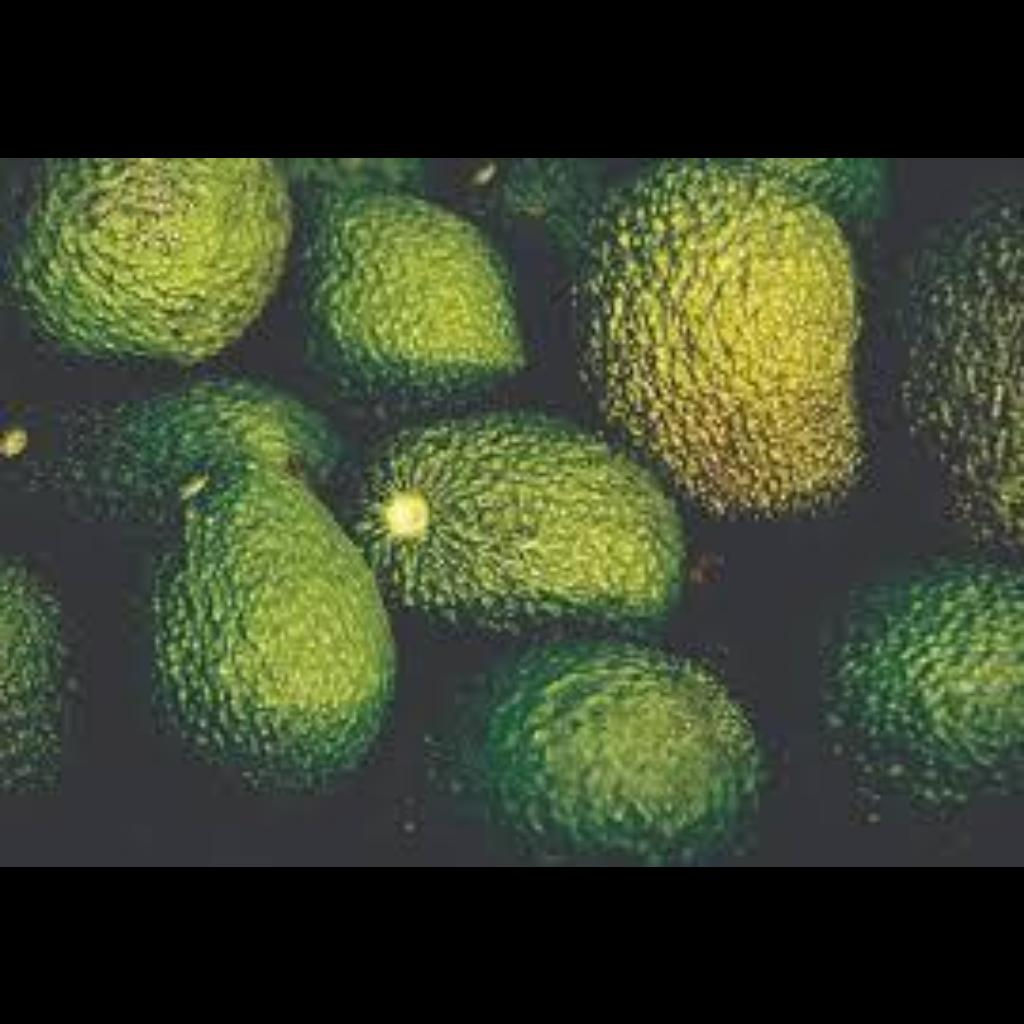antracnosis_fruto: (601, 288, 875, 504)
